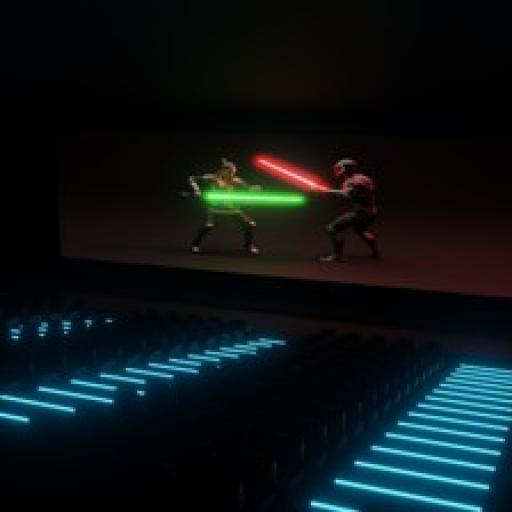human: (174, 153, 270, 264), (313, 154, 379, 264)
lightsaber: (257, 156, 330, 192), (183, 190, 306, 207)
